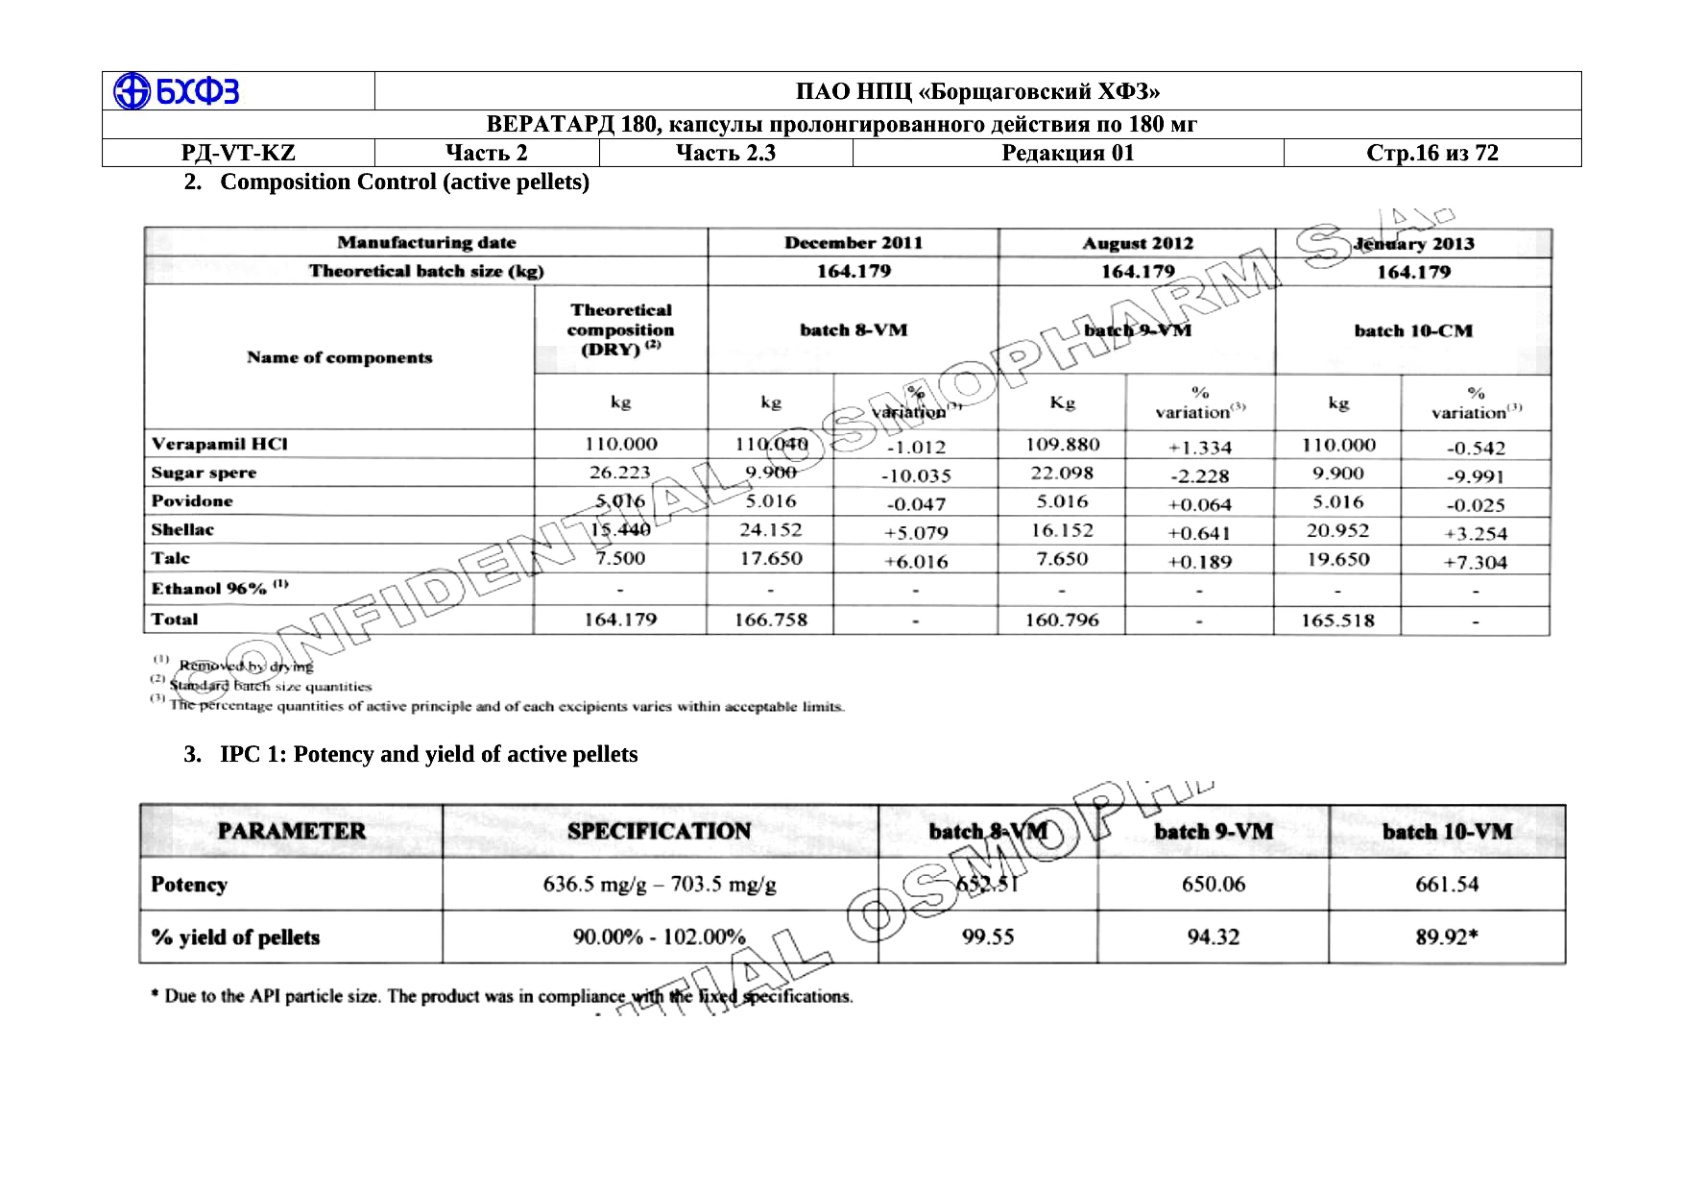full_lined: (138, 801, 1567, 968)
merged_cells: (142, 226, 1554, 639), (101, 70, 1582, 168)
